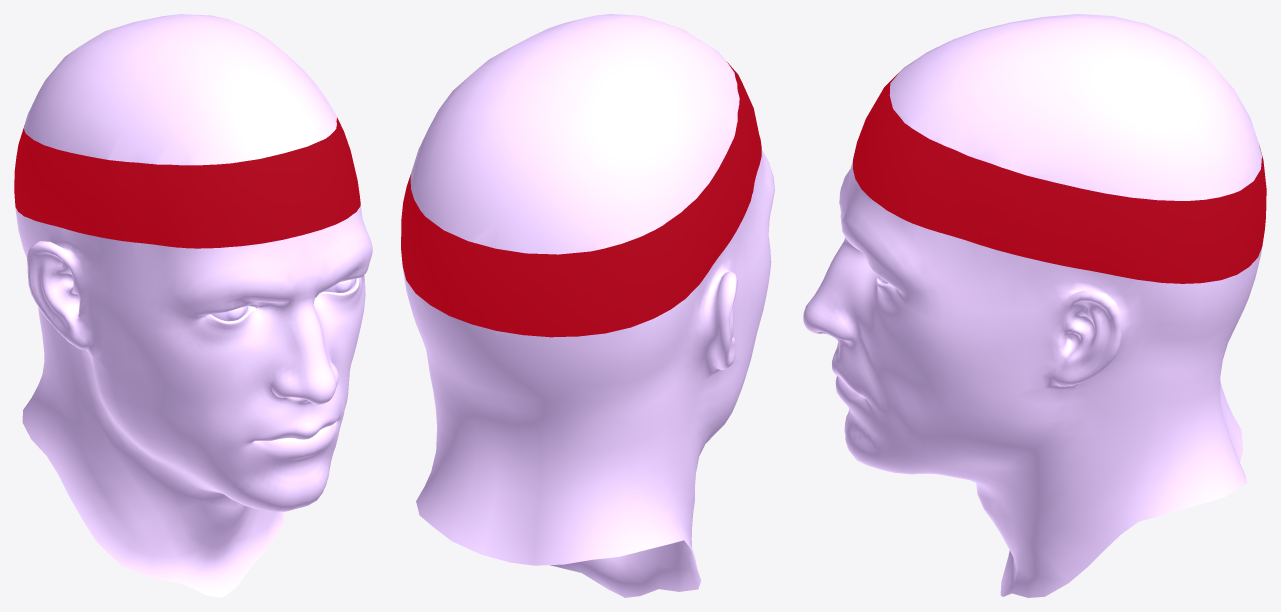
File: Tension.glb
The picture shows the model from 3 angles, left to right: view 1: azimuth 30°, elevation 25°; view 2: azimuth 150°, elevation 25°; view 3: azimuth 270°, elevation 25°; orthographic projection. The views are drawn at different scales.
Parts seen in each view (by area): view 1: man_body_0014 uv map, man_body_0014 uv map_Material.004_0.001; view 2: man_body_0014 uv map, man_body_0014 uv map_Material.004_0.001; view 3: man_body_0014 uv map, man_body_0014 uv map_Material.004_0.001.
Boxes of the visible parts, x1,y1,x2,y2 form: man_body_0014 uv map: (15, 14, 372, 597); man_body_0014 uv map_Material.004_0.001: (14, 117, 360, 248); man_body_0014 uv map: (402, 14, 774, 597); man_body_0014 uv map_Material.004_0.001: (401, 61, 761, 337); man_body_0014 uv map: (803, 14, 1262, 597); man_body_0014 uv map_Material.004_0.001: (853, 73, 1266, 283).
Size of the model in its own units: 0.1766 by 0.3089 by 0.2292.
